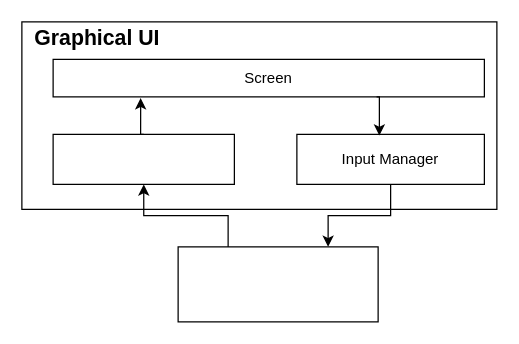
Image size: 519x344. Some labels were removed from this diagram. Each missing label, with the box of its shape:
System Manager: (177, 246, 378, 322)
View Controller: (52, 133, 234, 184)
